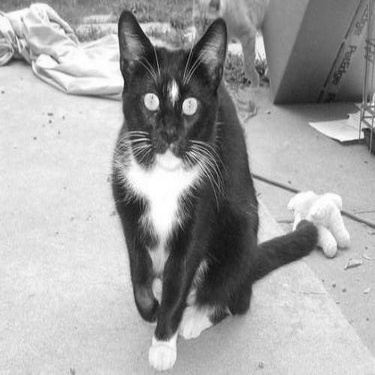cat: (87, 7, 360, 364)
